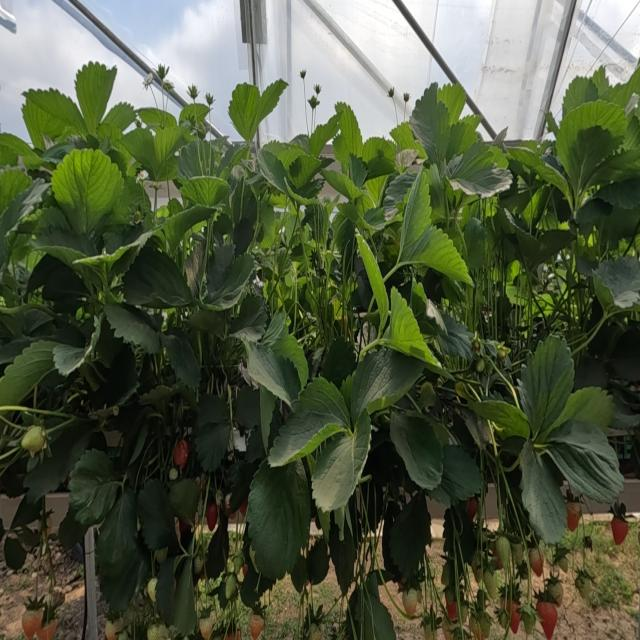Flowers: (157, 63, 169, 81), (143, 72, 153, 89), (307, 97, 319, 111), (163, 80, 174, 94), (205, 93, 214, 107), (314, 84, 320, 95), (300, 70, 306, 79)
Leaves: (246, 459, 310, 581), (270, 377, 349, 466), (555, 100, 625, 195), (545, 420, 623, 503), (24, 419, 96, 503), (518, 335, 574, 440), (52, 149, 122, 233), (312, 412, 371, 511), (351, 349, 423, 419), (519, 440, 567, 543), (389, 411, 443, 489), (124, 246, 191, 307), (68, 449, 121, 526), (1, 179, 48, 259), (0, 340, 57, 405), (390, 492, 431, 578), (387, 288, 434, 363), (346, 571, 395, 639), (396, 170, 431, 265), (22, 88, 88, 138), (410, 82, 451, 162), (96, 488, 137, 568), (412, 229, 471, 283), (89, 344, 138, 409), (247, 344, 299, 405), (473, 399, 530, 454), (514, 145, 570, 200), (206, 246, 254, 309), (138, 479, 178, 554), (434, 445, 482, 505), (75, 62, 115, 132), (53, 318, 101, 376), (195, 394, 231, 471), (426, 302, 473, 360), (357, 236, 388, 323), (104, 304, 159, 353), (511, 225, 575, 266), (557, 387, 612, 430), (594, 255, 639, 307), (270, 326, 308, 384), (161, 332, 199, 389), (29, 225, 96, 257), (119, 128, 159, 178), (333, 104, 362, 171), (229, 294, 268, 341), (172, 557, 195, 635), (383, 169, 418, 220), (113, 176, 150, 224), (452, 166, 511, 196), (156, 554, 180, 627), (229, 82, 259, 140), (177, 138, 218, 180), (320, 338, 355, 387), (308, 108, 344, 155), (562, 76, 598, 122), (610, 328, 639, 382), (154, 126, 184, 178), (446, 115, 479, 161), (0, 169, 31, 217), (181, 177, 228, 207), (258, 147, 287, 195), (362, 137, 395, 179), (170, 478, 200, 524), (257, 79, 287, 124), (340, 203, 386, 231), (215, 143, 249, 179), (574, 356, 607, 391), (234, 384, 259, 429), (464, 218, 485, 271), (438, 84, 466, 123), (322, 169, 357, 199), (269, 141, 305, 169), (389, 121, 421, 152), (233, 185, 257, 226), (258, 201, 278, 249), (101, 103, 135, 131), (290, 155, 320, 186), (306, 204, 329, 242), (179, 103, 209, 131), (364, 174, 389, 207), (138, 107, 176, 128), (140, 385, 171, 409), (349, 153, 366, 187), (576, 255, 598, 276)
Strawberries: (21, 426, 46, 455), (537, 602, 557, 638), (22, 609, 42, 639), (495, 536, 511, 567), (575, 574, 592, 603), (544, 580, 562, 606), (401, 589, 417, 618), (484, 571, 499, 601), (173, 439, 188, 467), (611, 517, 627, 543), (528, 548, 543, 575), (249, 614, 263, 639), (206, 503, 218, 531), (567, 504, 579, 531), (39, 620, 56, 639), (200, 616, 213, 639), (510, 603, 519, 634), (225, 574, 235, 599), (466, 498, 477, 519), (446, 599, 456, 619), (187, 84, 198, 102), (147, 625, 161, 639), (147, 578, 155, 602), (309, 624, 321, 639), (105, 622, 115, 639), (473, 566, 482, 583), (239, 562, 246, 581), (558, 557, 567, 571), (169, 467, 178, 479), (403, 92, 410, 103), (388, 87, 394, 97)
